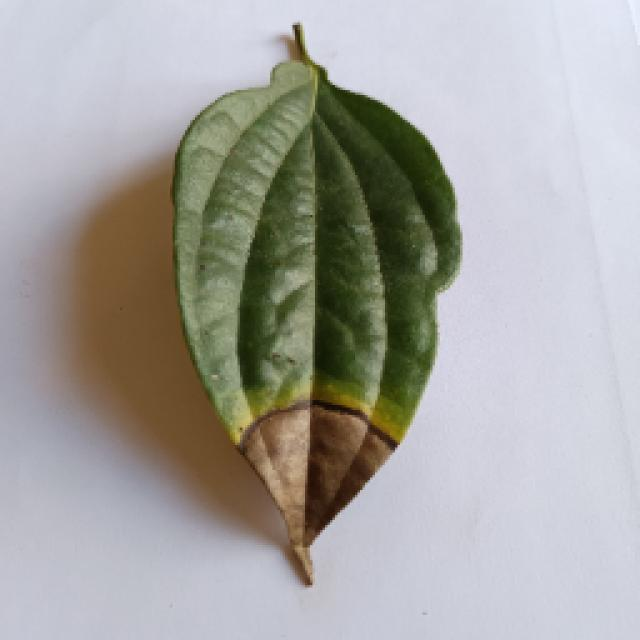footrot: (165, 28, 463, 588)
